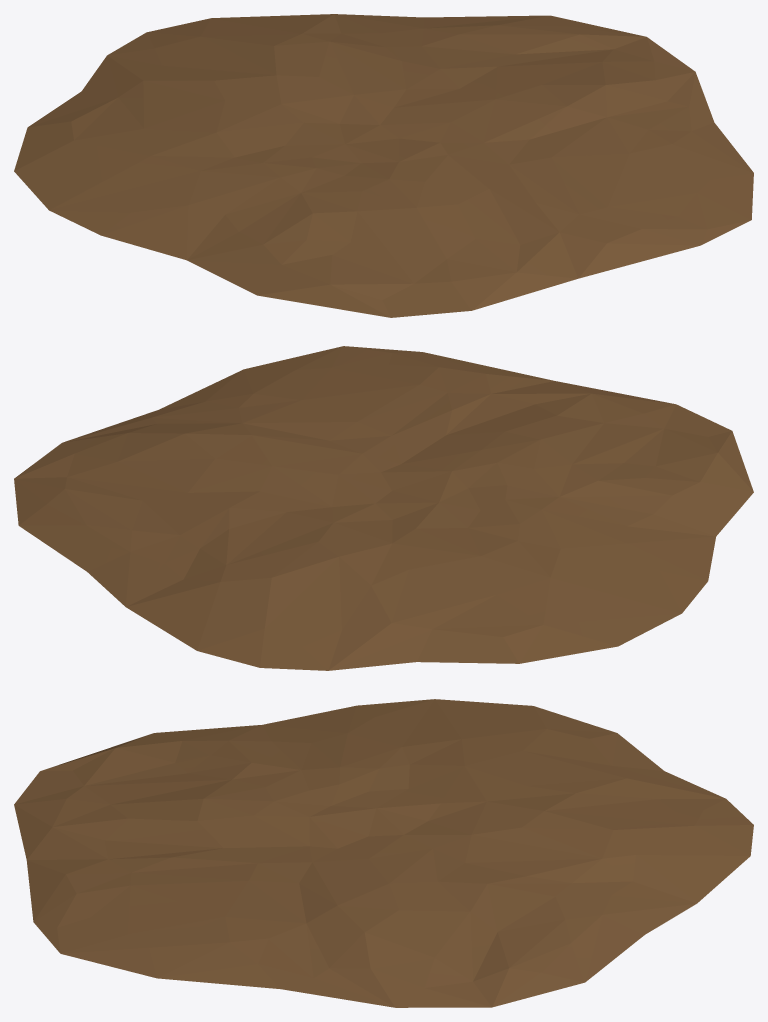
The model's file is SM_Env_Ground_Grass_01.glb.
The picture shows the model from 3 angles, top to bottom: view 1: azimuth 30°, elevation 25°; view 2: azimuth 150°, elevation 25°; view 3: azimuth 270°, elevation 25°; orthographic projection. The views are drawn at different scales.
Visible parts, largest first — view 1: SM_Env_Ground_Grass_01; view 2: SM_Env_Ground_Grass_01; view 3: SM_Env_Ground_Grass_01.
Part boxes in pixels (bbox=[...]): SM_Env_Ground_Grass_01: bbox=[14, 14, 753, 317]; SM_Env_Ground_Grass_01: bbox=[14, 346, 753, 670]; SM_Env_Ground_Grass_01: bbox=[14, 699, 753, 1007].
Size of the model in its own units: 938 by 38.04 by 950.
Materials: 1 (1 with a texture image).
